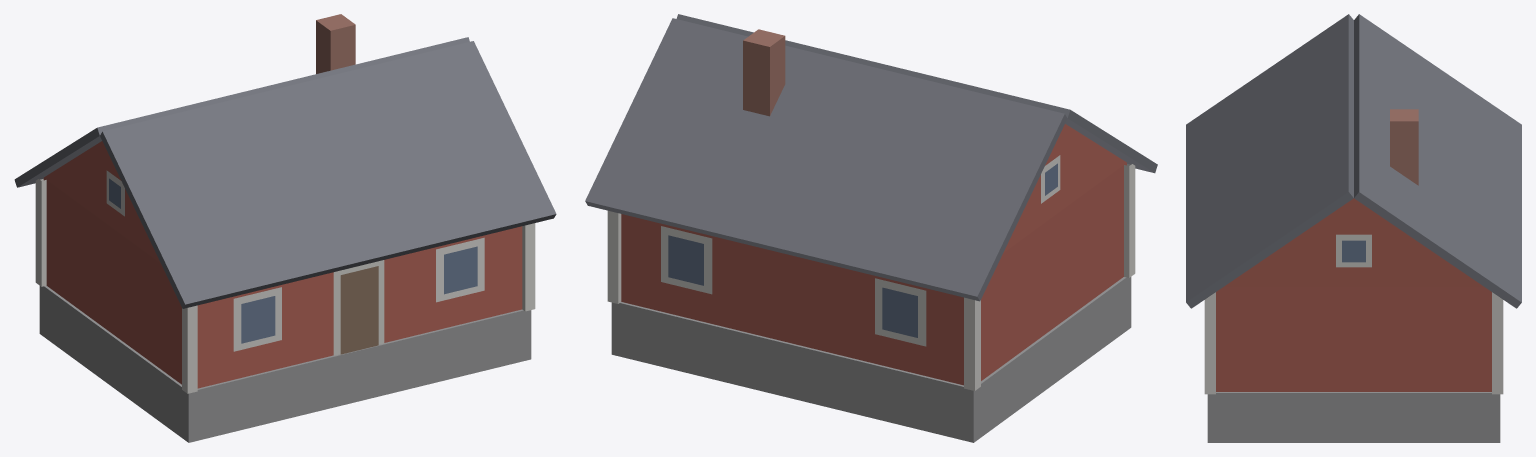
The model's file is house.glb.
3 renders of one model, left to right at view 1: azimuth 30°, elevation 25°; view 2: azimuth 150°, elevation 25°; view 3: azimuth 270°, elevation 25°, orthographic. The views are drawn at different scales.
Visible parts, largest first — view 1: house; view 2: house; view 3: house.
Boxes of the visible parts, x1,y1,x2,y2 form: house: (14, 14, 556, 442); house: (585, 14, 1157, 442); house: (1186, 14, 1521, 442).
Size of the model in its own units: 8.8 by 6.5 by 7.02.
